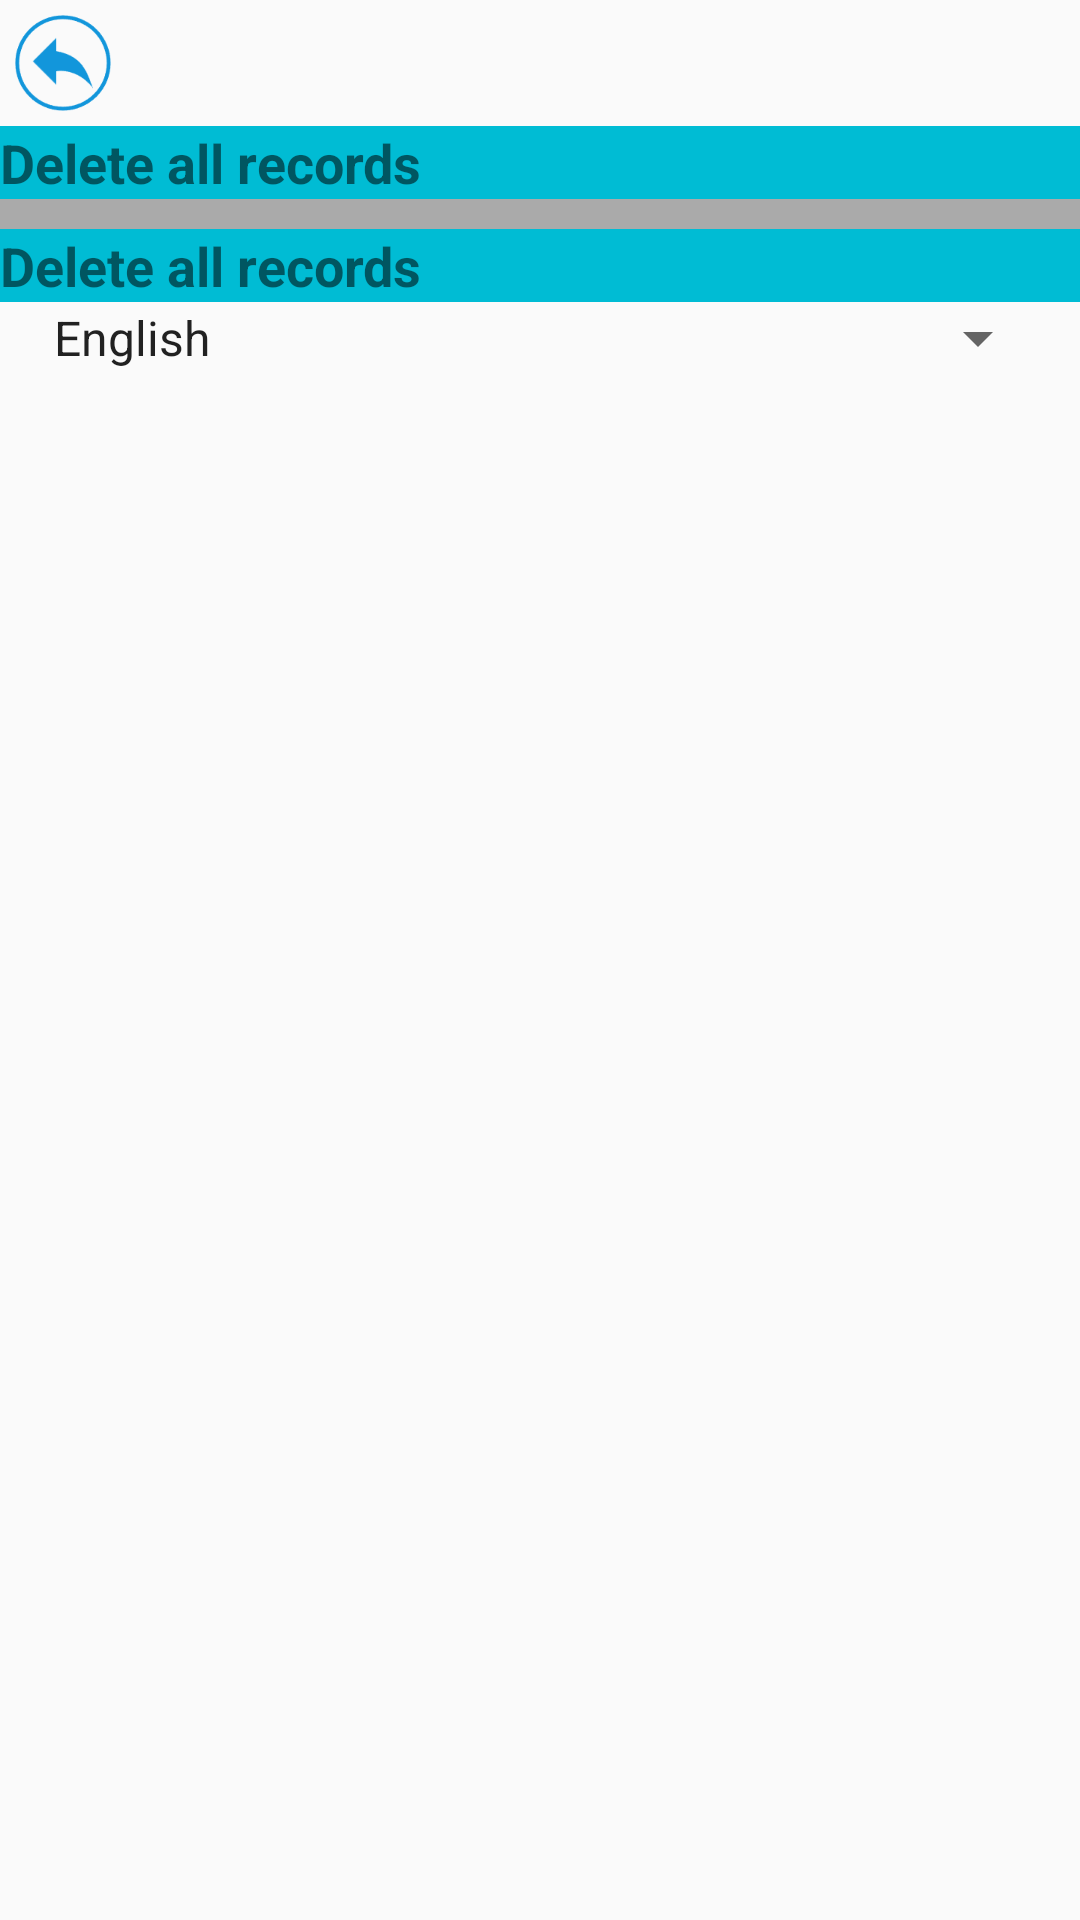

Screen size 1080 × 1920. Icon name, then its box in pixels as (x1, y1, x2, y2):
it back: (15, 15, 111, 111)
